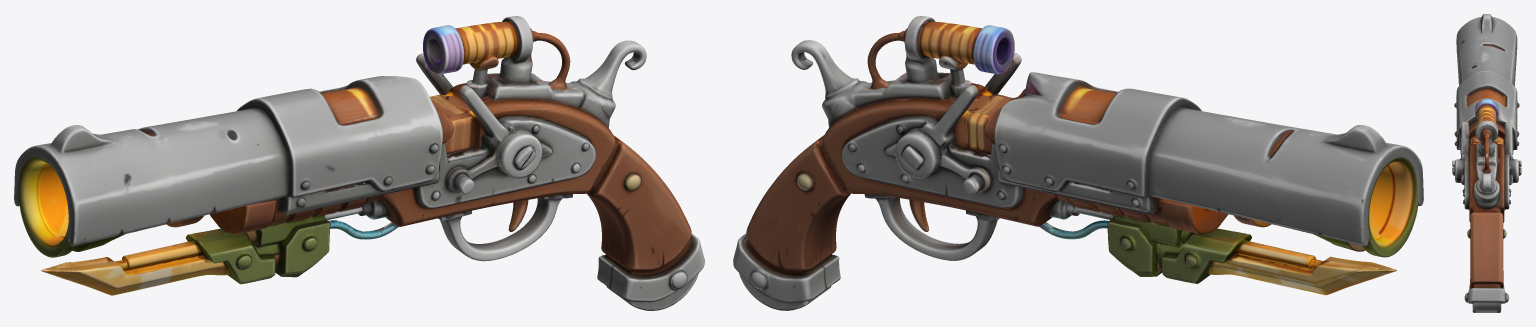
Rendered from Meshy_AI_Plasma_Pistol_0627144745_texture.glb.
The picture shows the model from 3 angles, left to right: view 1: azimuth 30°, elevation 25°; view 2: azimuth 150°, elevation 25°; view 3: azimuth 270°, elevation 25°; orthographic projection. The views are drawn at different scales.
Bounding box in the file's own units: 1.9 × 0.8994 × 0.3513.
1 material, 1 textured.
